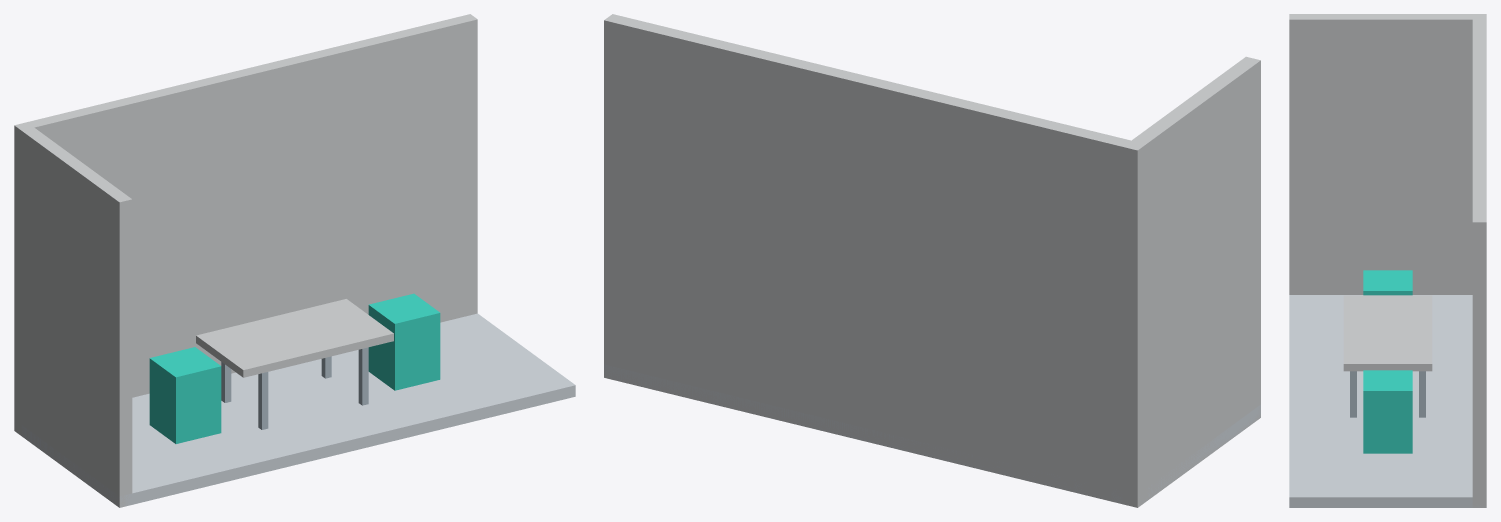
The picture shows the model from 3 angles, left to right: view 1: azimuth 30°, elevation 25°; view 2: azimuth 150°, elevation 25°; view 3: azimuth 270°, elevation 25°; orthographic projection. The views are drawn at different scales.
Parts seen in each view (by area): view 1: Exhibition Booth Concept; view 2: Exhibition Booth Concept; view 3: Exhibition Booth Concept.
Part boxes in pixels (x1,y1,x2,y2): Exhibition Booth Concept: (14, 14, 575, 507); Exhibition Booth Concept: (604, 14, 1260, 507); Exhibition Booth Concept: (1289, 14, 1486, 507).
Bounding box in the file's own units: 5 × 3.2 × 2.
